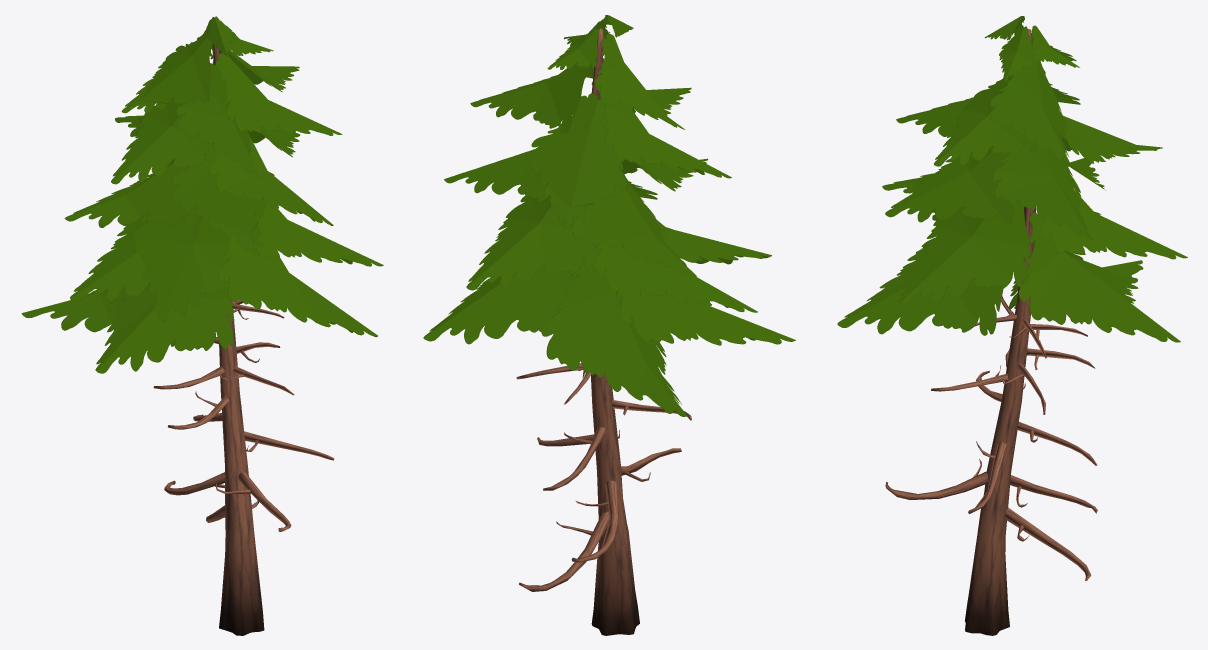
The model's file is Pine_3.glb.
3 renders of one model, left to right at view 1: azimuth 30°, elevation 25°; view 2: azimuth 150°, elevation 25°; view 3: azimuth 270°, elevation 25°, orthographic. The views are drawn at different scales.
Bounding box in the file's own units: 3.61 × 7.39 × 4.
Materials: 2 (2 with a texture image).
